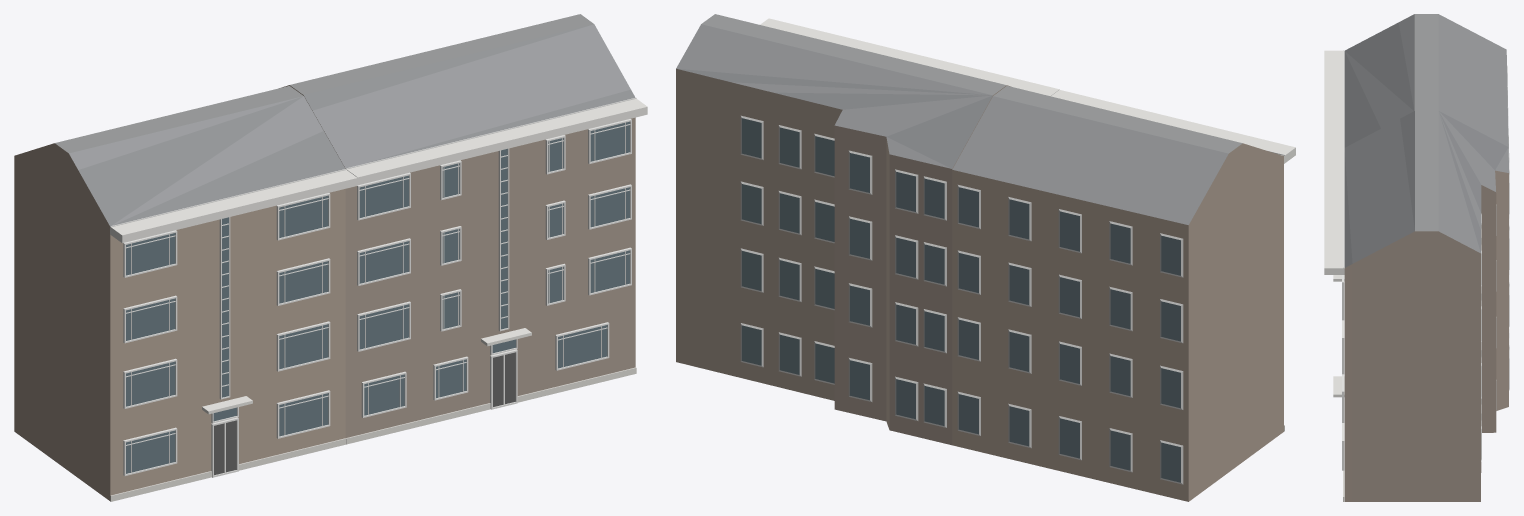
The model's file is chunk-face-houtrijk-335-409-r1.glb.
3 renders of one model, left to right at view 1: azimuth 30°, elevation 25°; view 2: azimuth 150°, elevation 25°; view 3: azimuth 270°, elevation 25°, orthographic. The views are drawn at different scales.
Parts seen in each view (by area): view 1: face-houtrijk-335-409-r1; view 2: face-houtrijk-335-409-r1; view 3: face-houtrijk-335-409-r1.
Boxes of the visible parts, <box> form: face-houtrijk-335-409-r1: <box>14,14,647,501</box>; face-houtrijk-335-409-r1: <box>676,14,1295,501</box>; face-houtrijk-335-409-r1: <box>1324,14,1509,501</box>.
Size of the model in its own units: 27.97 by 16.18 by 10.06.
